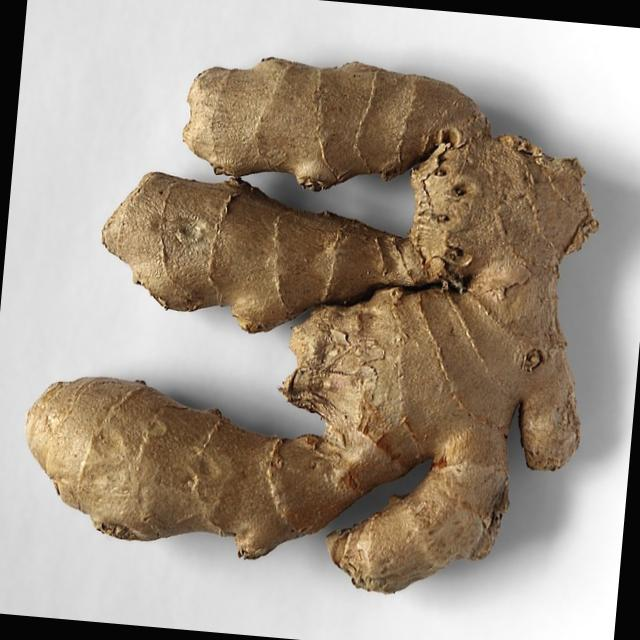lemon: (0, 23, 624, 634)
